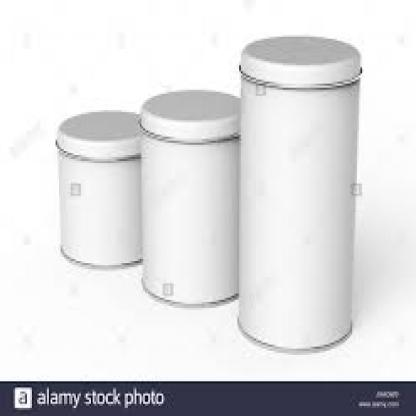METAL: (234, 32, 361, 352), (137, 90, 239, 304), (54, 108, 140, 269)
